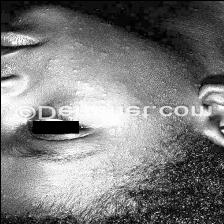Toxin: (104, 116, 198, 166), (32, 54, 130, 99)
